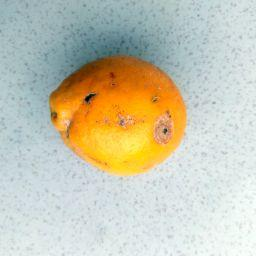Unripe: (49, 55, 188, 175)
